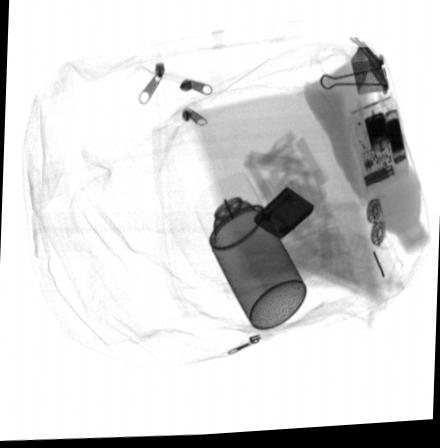Lighter: (252, 189, 313, 243)
Sprayer: (190, 172, 305, 331)
